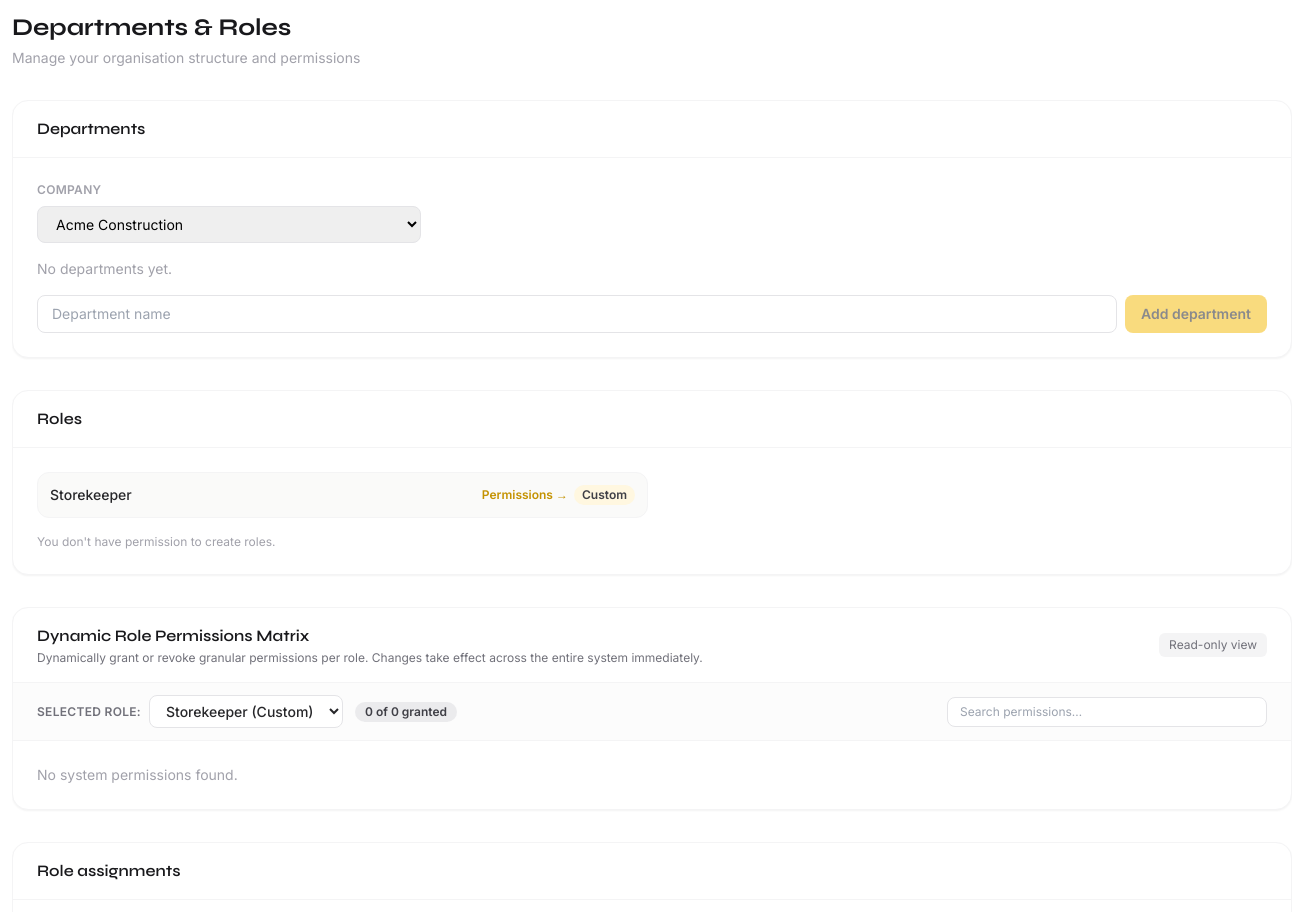
Test: DepartmentsRolesPage › creates a department and shows it in the list
The image size is (1292, 912).
Type "Engineering" into the field with placeholder "Department name". click: (577, 314)
box: [37,295,1117,333]
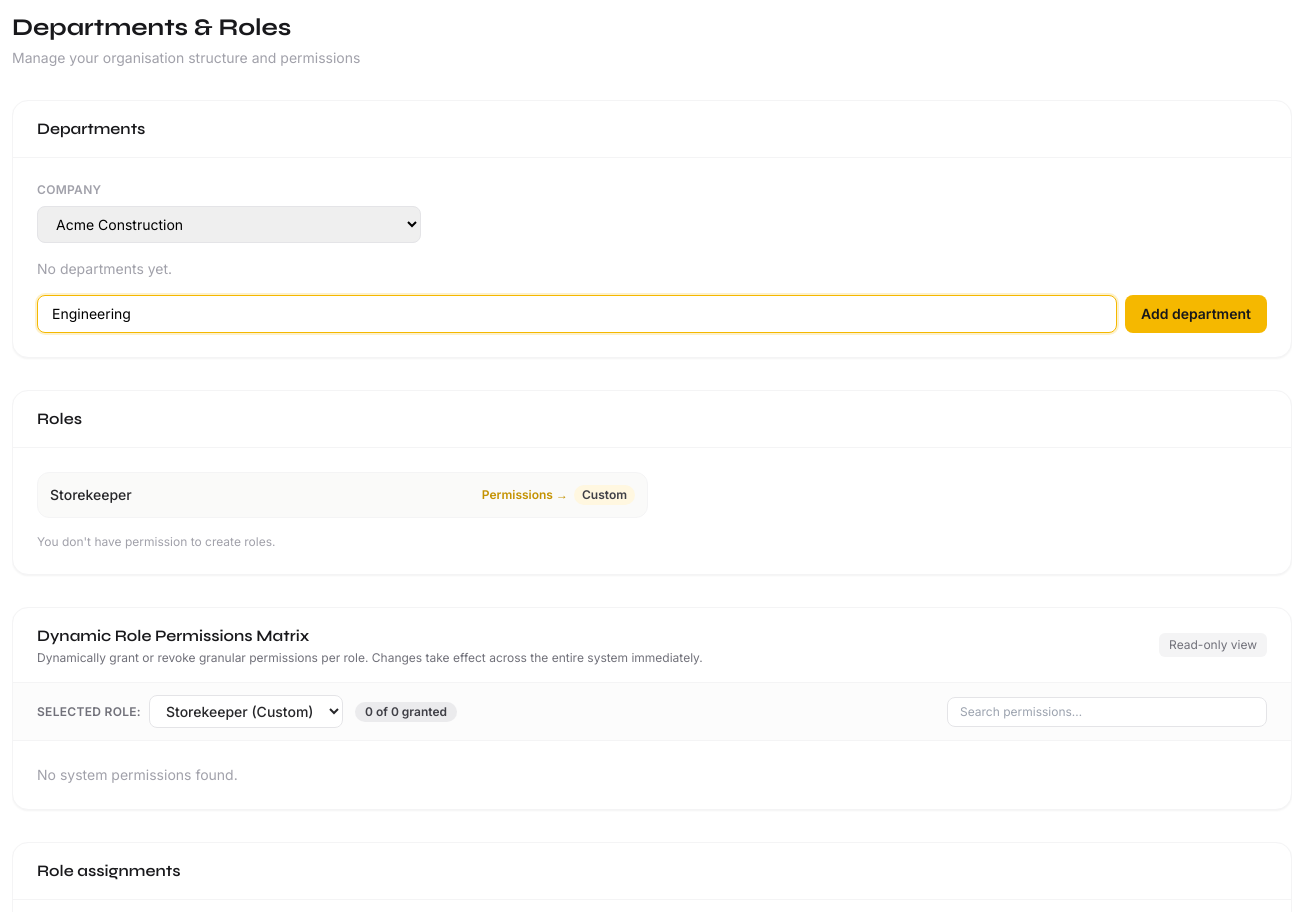
Click the button "Add department". click: (1196, 314)
box: [1125,295,1267,333]
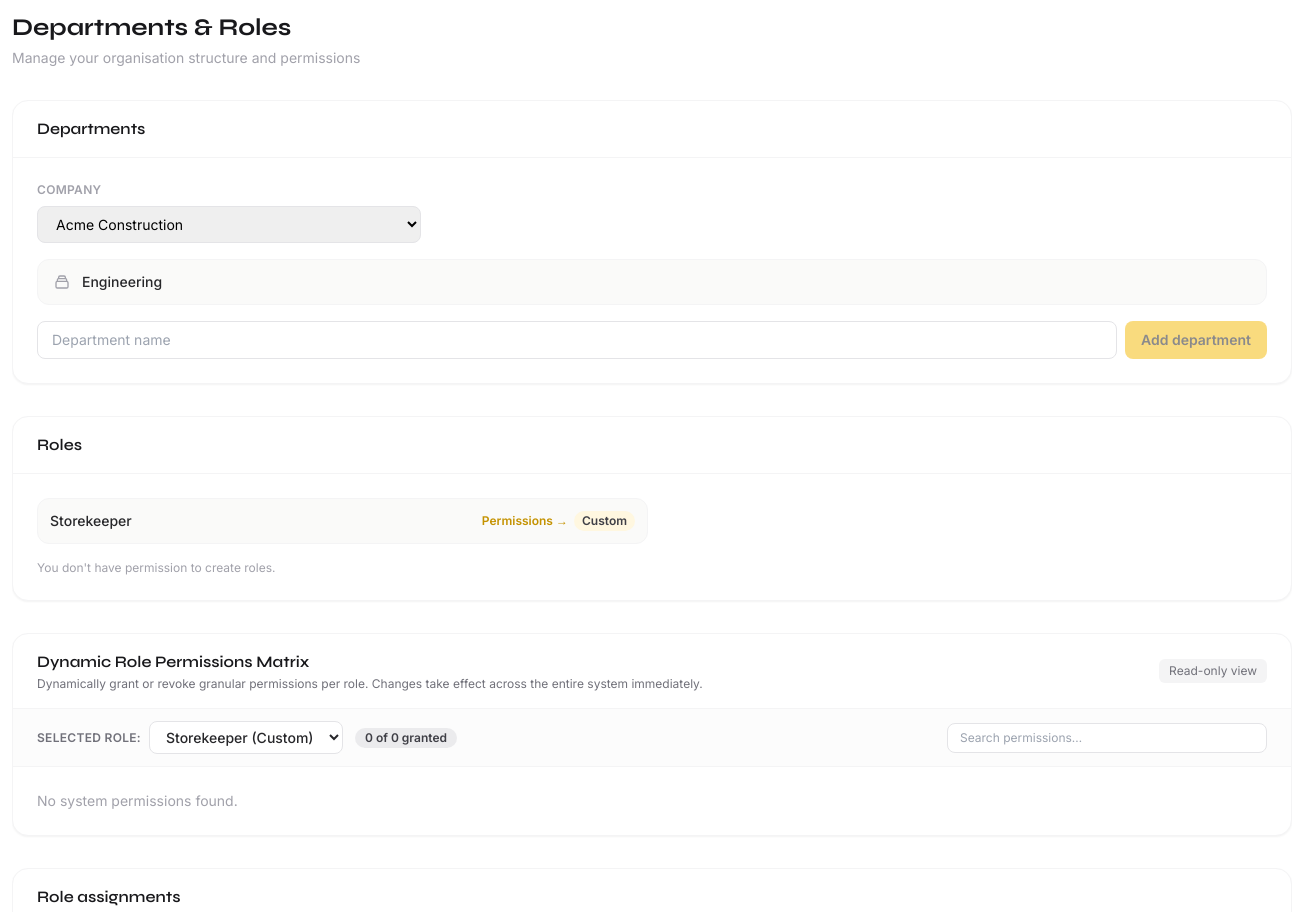
Check: the text "Engineering" is shown, box [37,259,1267,305]
